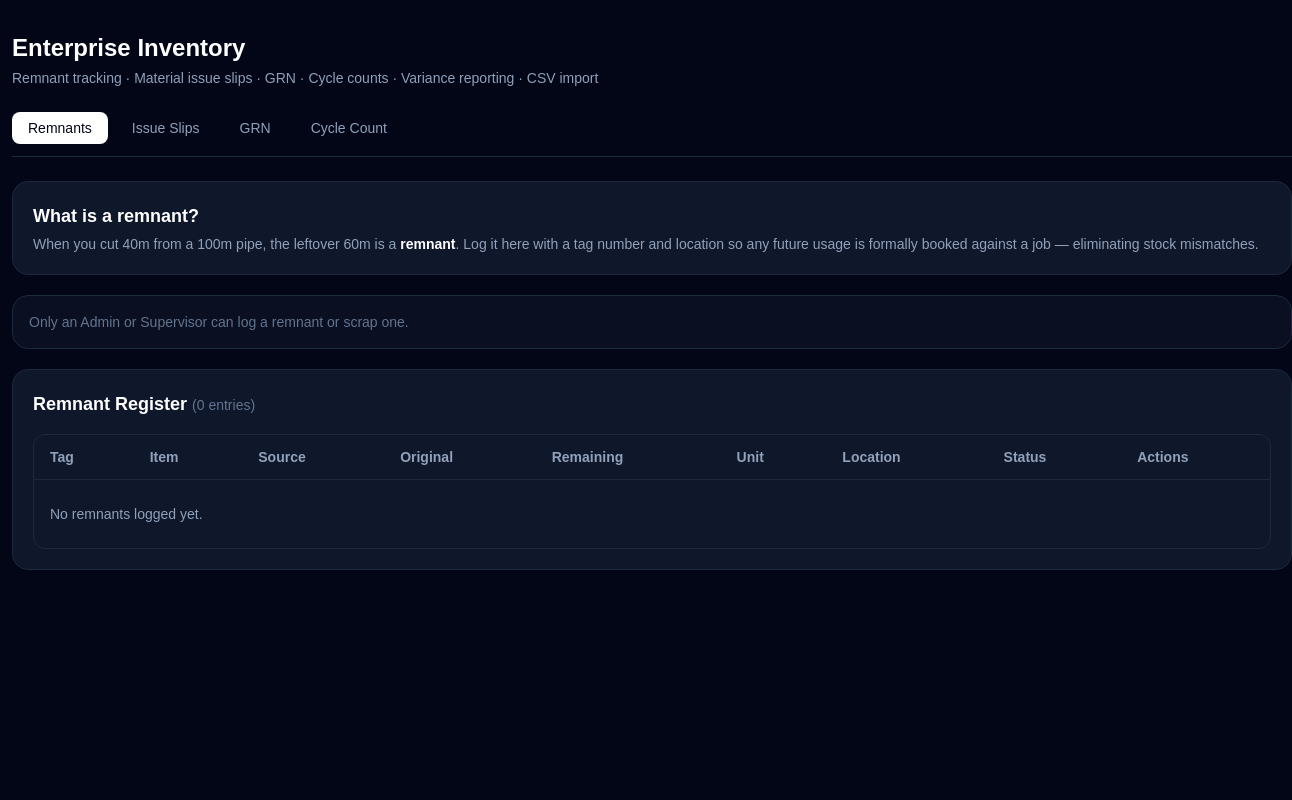
Test: an Operator is offered only what the server lets an Operator do › is not offered a goods receipt or its acceptance
Click the button "GRN".
click(255, 128)  # box [224,112,287,144]
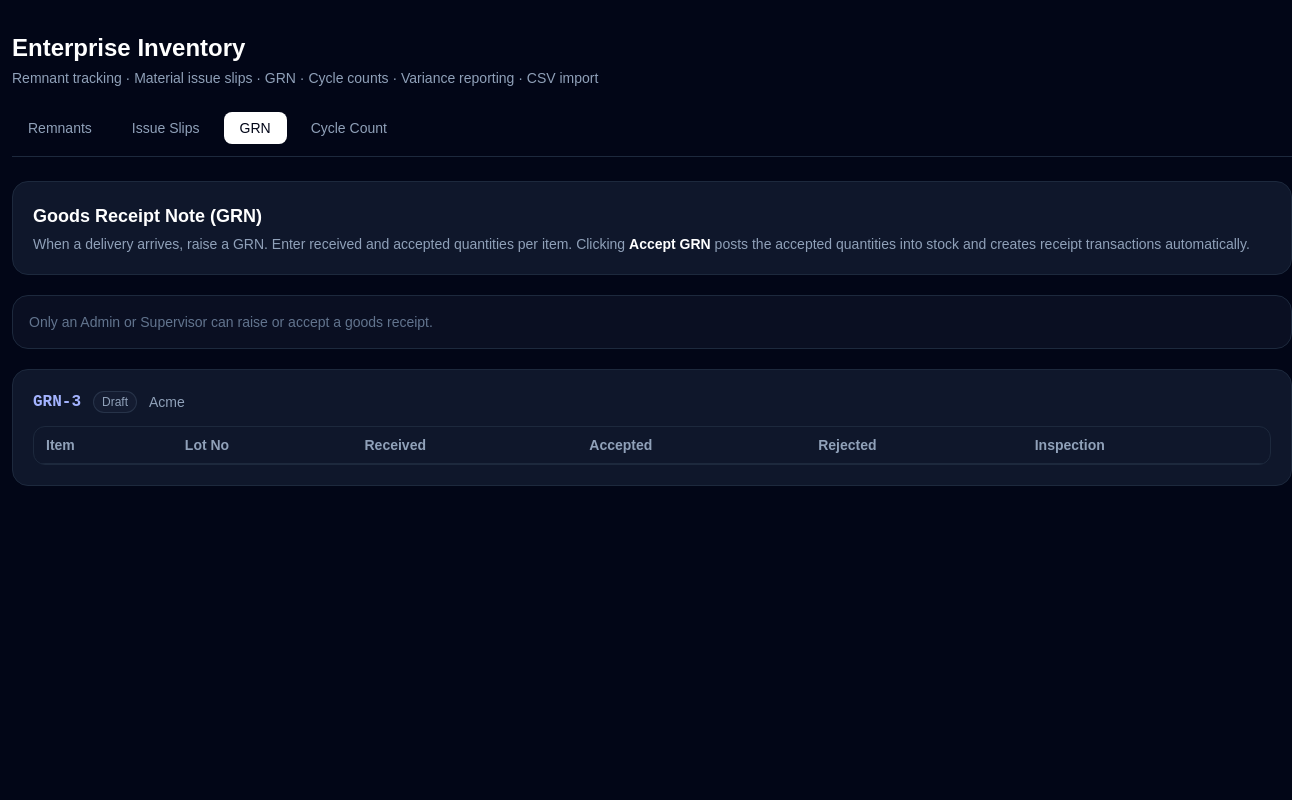
Expected: the text "GRN-3" is shown, [33,390,81,414]
Expected: the text "Only an Admin or Supervisor can raise or accept a goods receipt." is shown, [12,295,1291,349]
